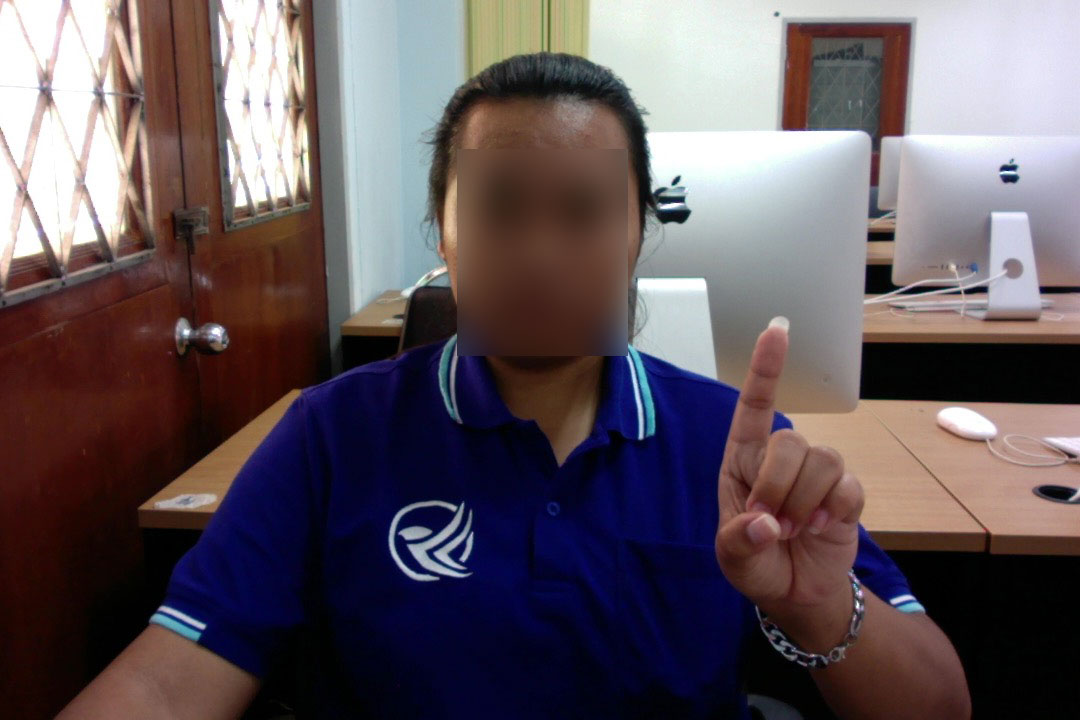dor: (706, 304, 871, 618)
